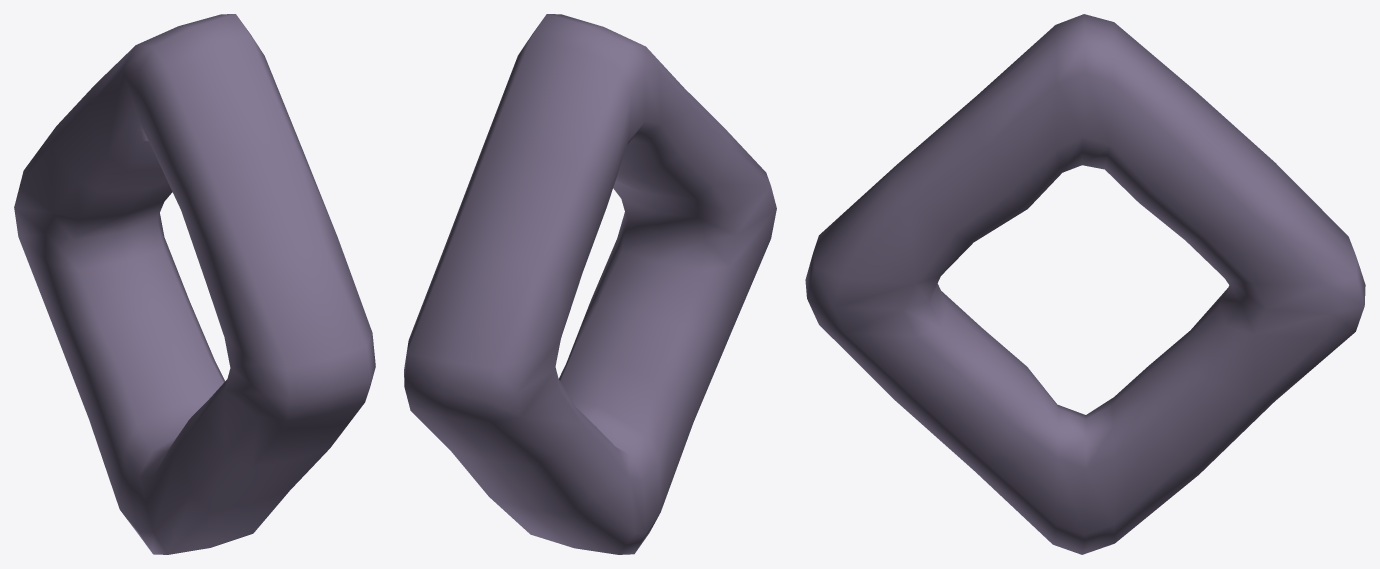
The model's file is Voidkeyv01.fbx.
The picture shows the model from 3 angles, left to right: view 1: azimuth 30°, elevation 25°; view 2: azimuth 150°, elevation 25°; view 3: azimuth 270°, elevation 25°; orthographic projection.
Visible parts, largest first — view 1: Key; view 2: Key; view 3: Key.
Part boxes in pixels (<box>): Key: <box>14,14,375,554</box>; Key: <box>404,14,776,554</box>; Key: <box>805,14,1365,554</box>.
Size of the model in its own units: 0.2177 by 0.8845 by 0.8714.
